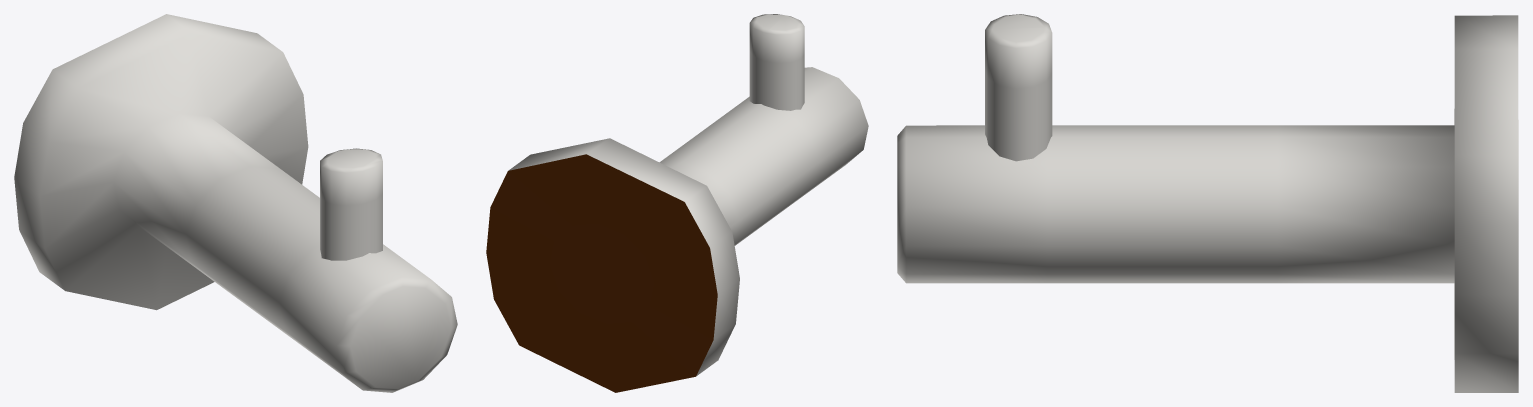
The picture shows the model from 3 angles, left to right: view 1: azimuth 30°, elevation 25°; view 2: azimuth 150°, elevation 25°; view 3: azimuth 270°, elevation 25°; orthographic projection. The views are drawn at different scales.
Parts seen in each view (by area): view 1: H-3; view 2: H-3; view 3: H-3.
Boxes of the visible parts, x1,y1,x2,y2 form: H-3: [14, 14, 457, 392]; H-3: [486, 14, 868, 392]; H-3: [897, 14, 1518, 392].
Bounding box in the file's own units: 8.4 × 8.29 × 13.7.
